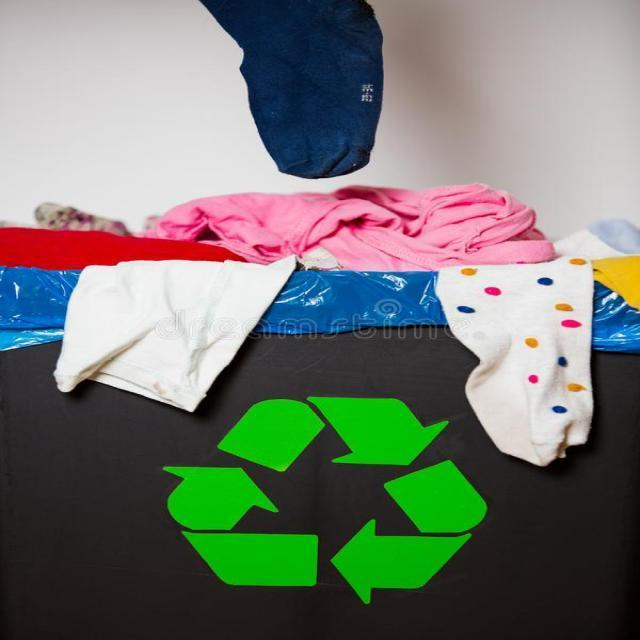clothes: (216, 19, 444, 272)
